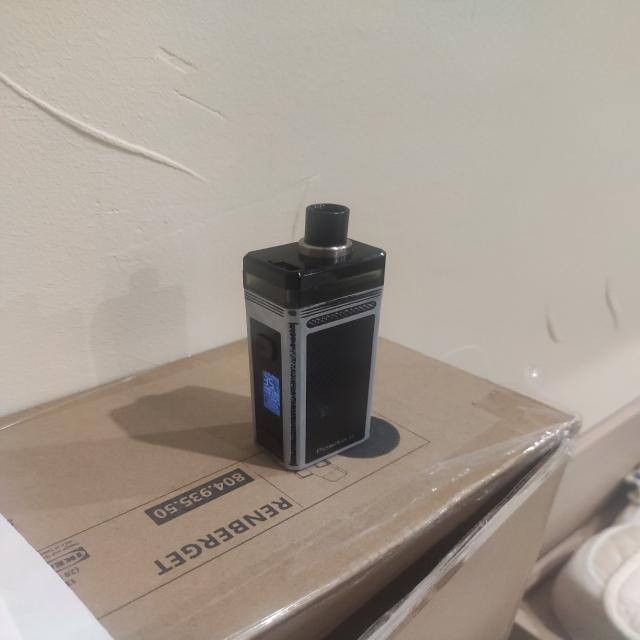cigaret: (221, 198, 382, 466)
